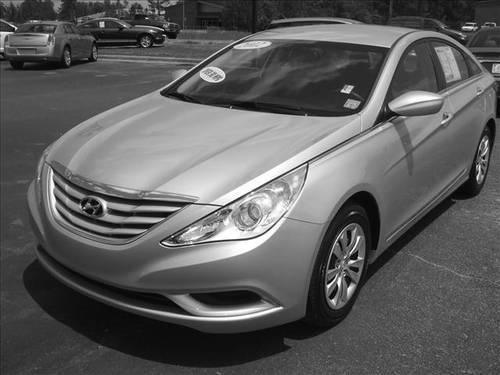car: (24, 24, 499, 337)
